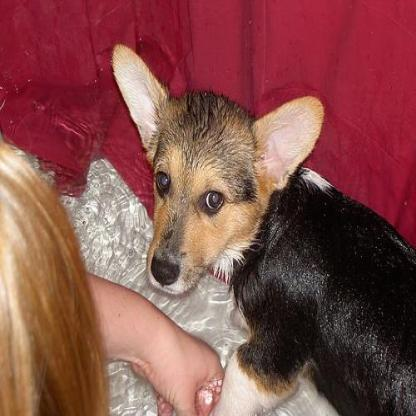Pembroke: (109, 40, 414, 414)
